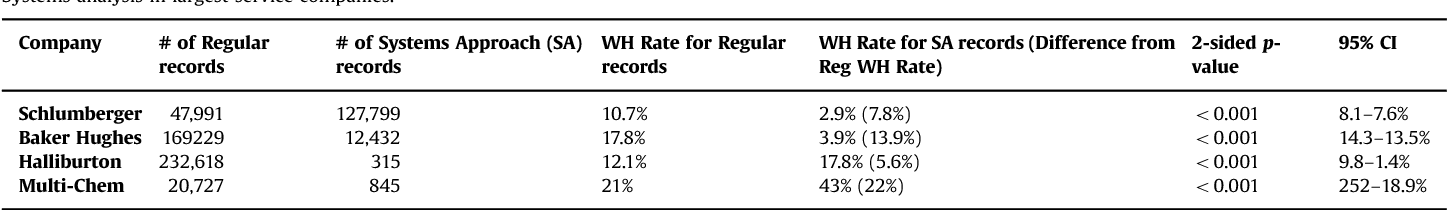fracking table: (6, 17, 1448, 209)
